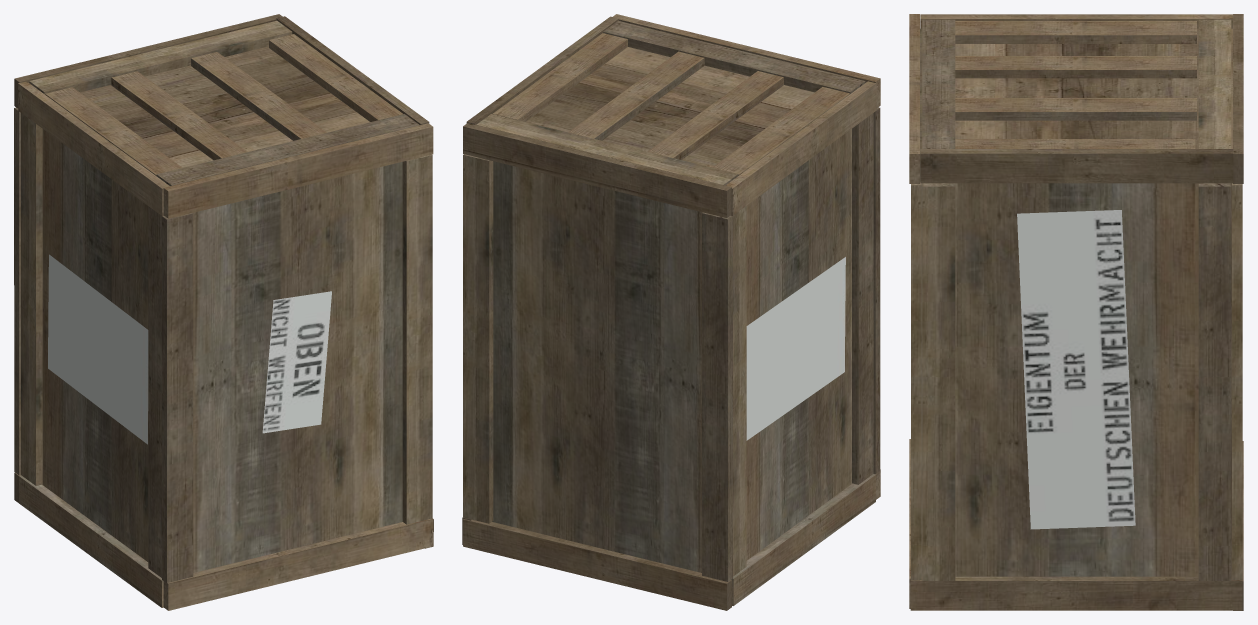
File: prop_crate_wehrmacht2a.glb
3 renders of one model, left to right at view 1: azimuth 30°, elevation 25°; view 2: azimuth 150°, elevation 25°; view 3: azimuth 270°, elevation 25°, orthographic. The views are drawn at different scales.
Size of the model in its own units: 32.12 by 48.32 by 31.96.
2 materials, 2 textured.
